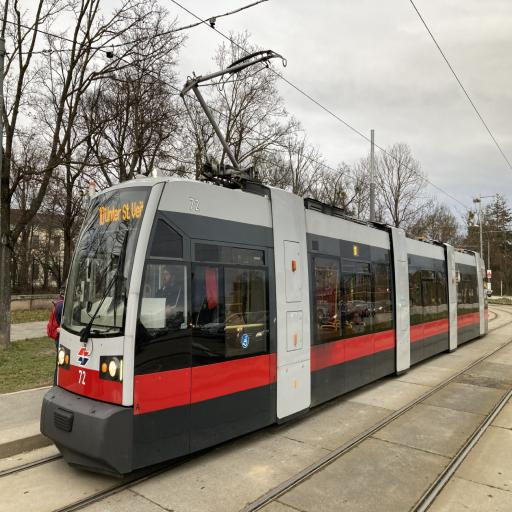ULF: (37, 176, 485, 473)
